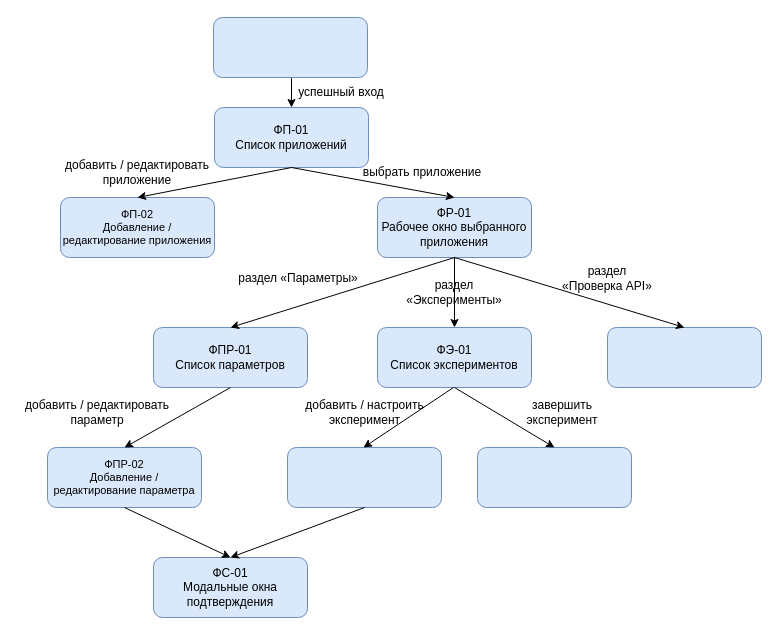
The diagram is 779 pixels wide and 635 high, and some of its shapes have lost their labels. The shapes that lost their labels are listed below. From the top down, each one's centre as x and y in pixels, then its label:
At [290,47]: "ФВ-01 Окно входа / регистрации".
At [684,357]: "ФА-01 Проверка Unity API".
At [364,477]: "ФЭ-02 Добавление / настройка эксперимента".
At [554,477]: "ФЭ-03 Модальное окно завершения эксперимента".
